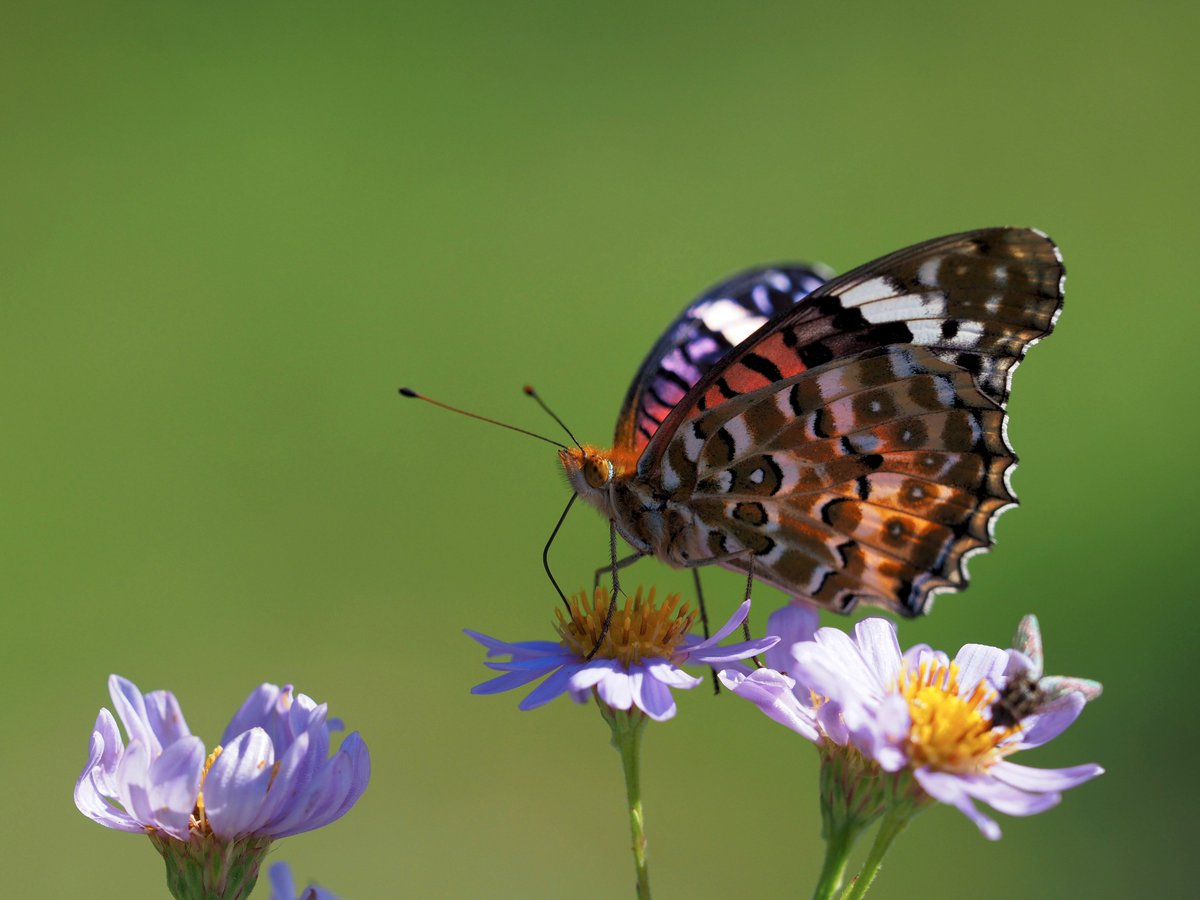Argyreus hyperbius: (375, 206, 1068, 697)
butterfly: (377, 208, 1070, 699)
